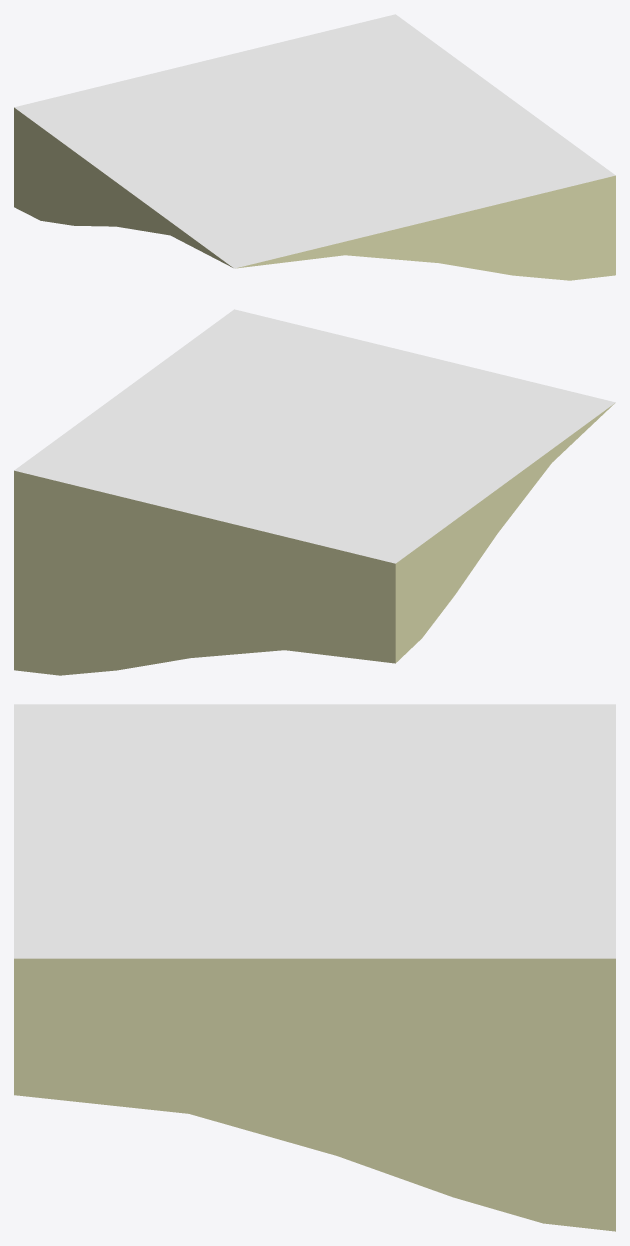
File: Ceiling_Overlapping_4x4.glb
3 views of the same model, one above another, from view 1: azimuth 30°, elevation 25°; view 2: azimuth 150°, elevation 25°; view 3: azimuth 270°, elevation 25° (orthographic). The views are drawn at different scales.
Visible parts, largest first — view 1: Ceiling_Overlapping_4x4; view 2: Ceiling_Overlapping_4x4; view 3: Ceiling_Overlapping_4x4.
Part boxes in pixels (left/top/right/bottom): Ceiling_Overlapping_4x4: left=14, top=14, right=615, bottom=280; Ceiling_Overlapping_4x4: left=14, top=309, right=615, bottom=675; Ceiling_Overlapping_4x4: left=14, top=704, right=615, bottom=1231.
Size of the model in its own units: 400 by 200 by 400.
